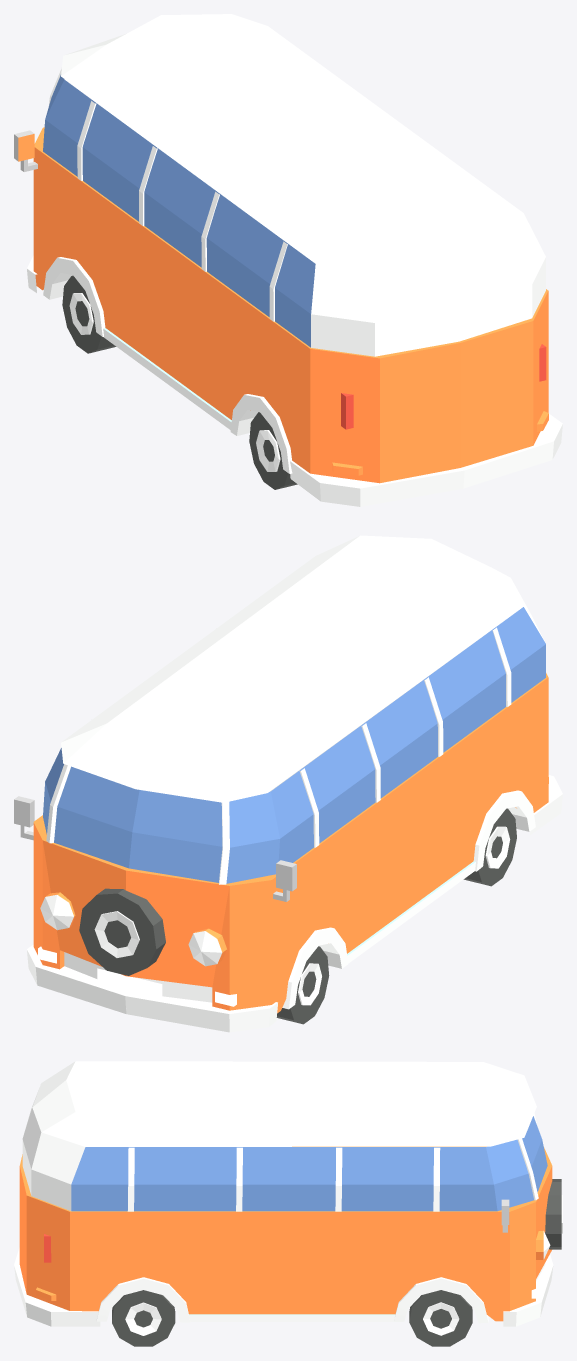
The model's file is transport_bus.glb.
3 views of the same model, one above another, from view 1: azimuth 30°, elevation 25°; view 2: azimuth 150°, elevation 25°; view 3: azimuth 270°, elevation 25° (orthographic). The views are drawn at different scales.
Visible parts, largest first — view 1: transport_bus(Clone); view 2: transport_bus(Clone); view 3: transport_bus(Clone).
Boxes of the visible parts, bbox=[...] form: transport_bus(Clone): bbox=[14, 14, 562, 506]; transport_bus(Clone): bbox=[14, 535, 562, 1032]; transport_bus(Clone): bbox=[14, 1061, 562, 1346].
Size of the model in its own units: 1.7 by 1.64 by 3.65.
1 material, 1 textured.
